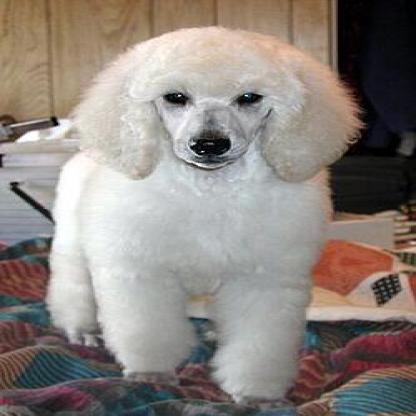miniature_poodle: (38, 21, 361, 398)
